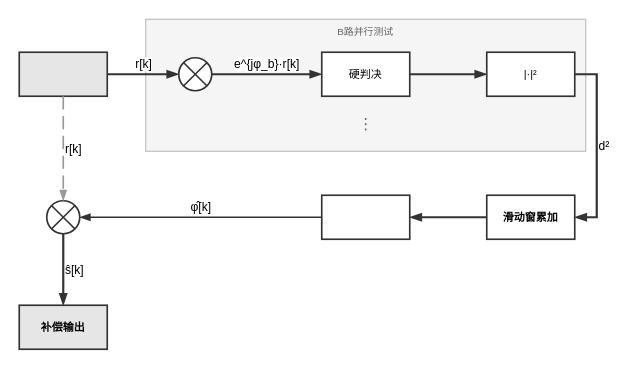
Some shapes in this 629 by 370 pixel diagram are drawn without their labels. The shapes that lost their labels are listed below. From the top down, each one's centre as x and y in pixels, then its label:
pixel 63 74: 接收信号
pixel 365 217: 最优相位选择
